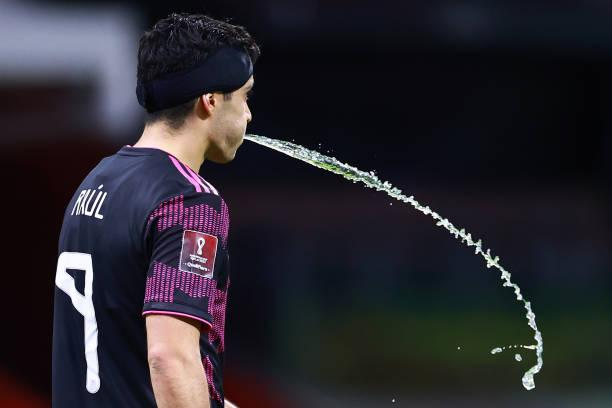Spitting: (115, 7, 321, 199)
